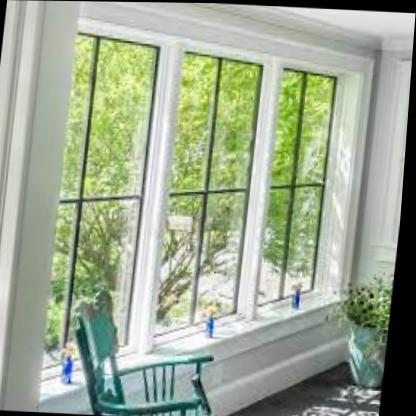Window: (41, 19, 163, 361), (161, 51, 267, 339), (260, 67, 338, 304)
